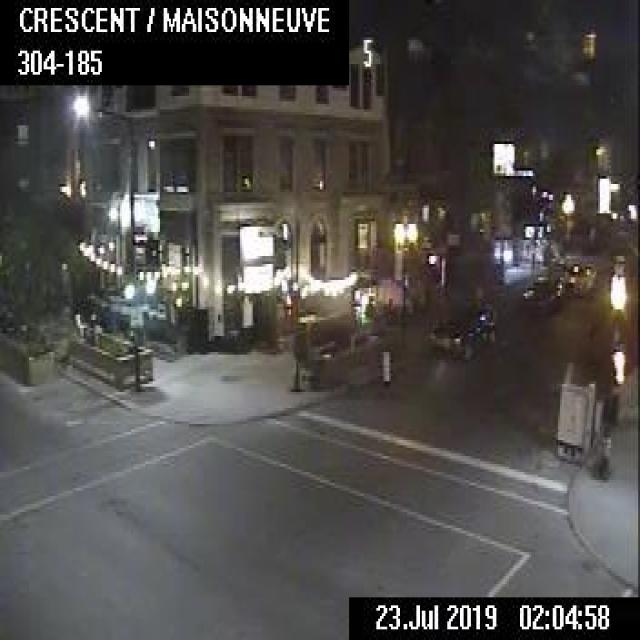pedestrian: (363, 294, 376, 319), (382, 293, 395, 315)
vehicle: (424, 298, 494, 354), (521, 272, 565, 312), (562, 260, 595, 294)
